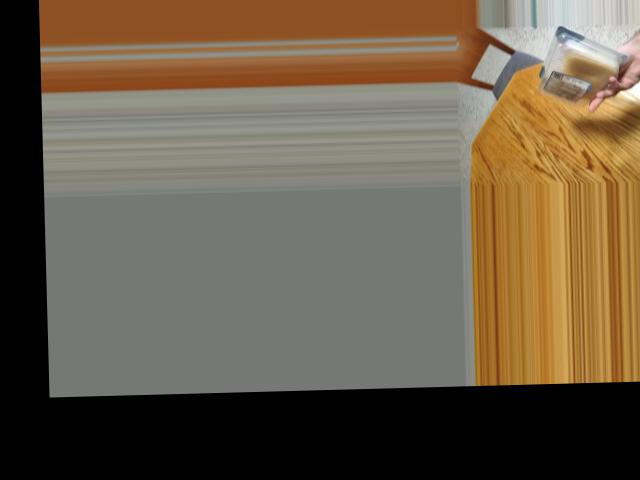cheese: (537, 37, 621, 98)
